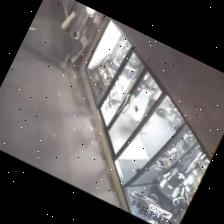person: (143, 87, 161, 117)
